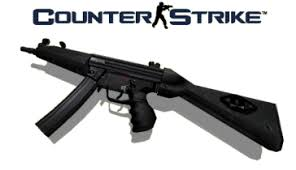gun: (17, 36, 284, 154)
